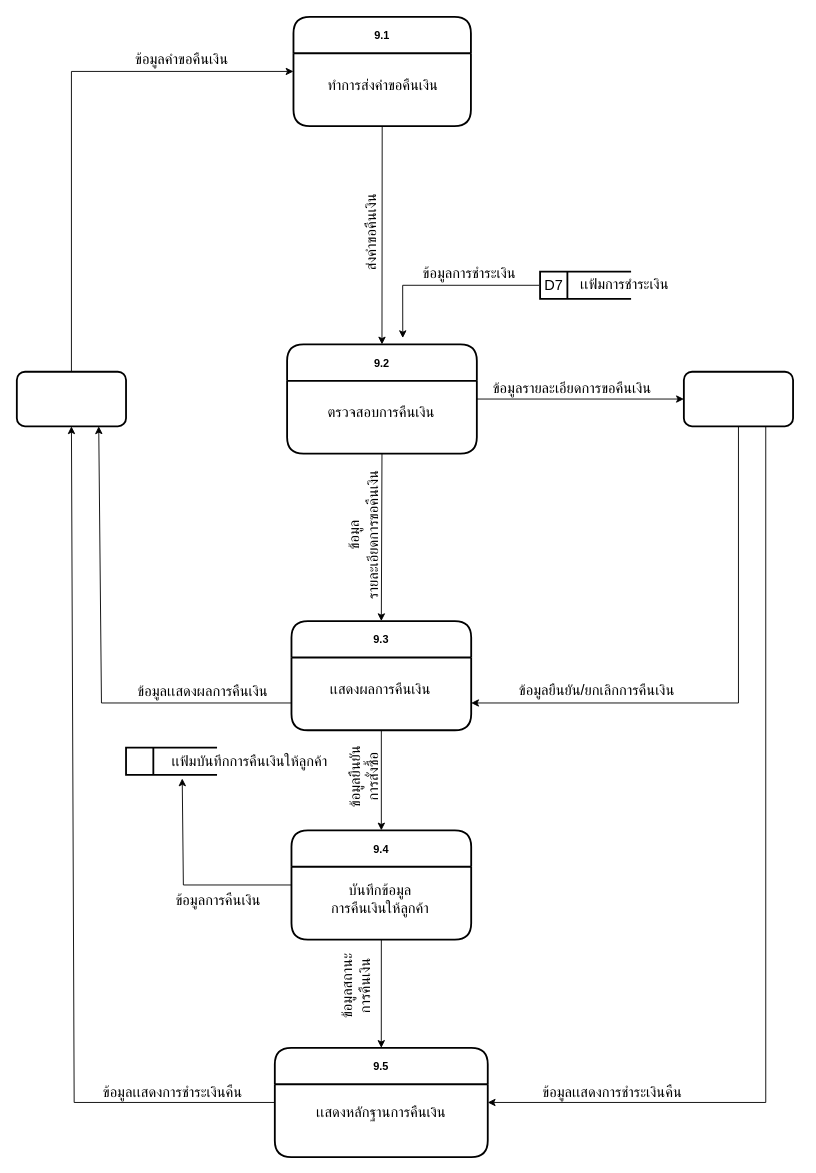
Image size: 816x1173. Some labels were removed from this diagram. The shapes that lost their labels are listed below. From the top down, each one's centre as x and y in pixels, then its label:
At point (70, 398): "ลูกค้า".
At point (738, 398): "เจ้าของร้าน".
At point (171, 760): "D9".
